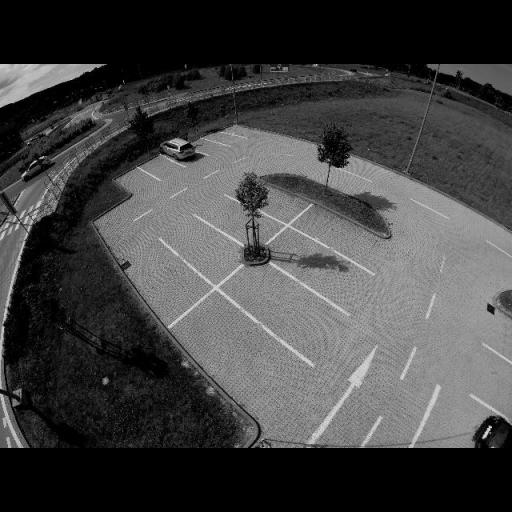busy: (470, 411, 512, 447), (158, 137, 198, 162)
free: (200, 325, 269, 377), (252, 283, 306, 323), (137, 258, 185, 294), (473, 358, 509, 399), (296, 250, 339, 282), (183, 234, 223, 262), (255, 189, 294, 217), (316, 219, 353, 245), (212, 206, 241, 228), (122, 173, 148, 190), (151, 161, 171, 175), (232, 125, 253, 136), (196, 142, 215, 152), (214, 134, 234, 143)
